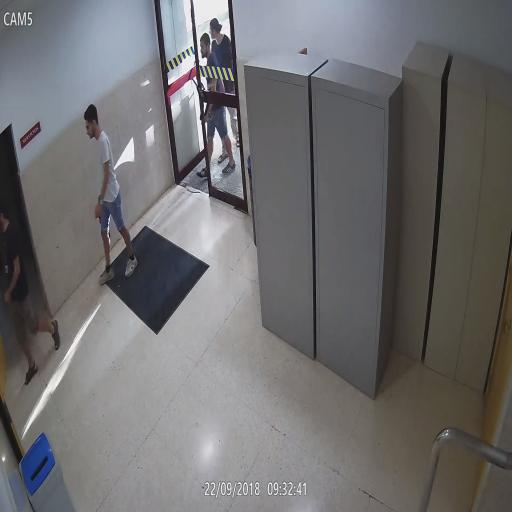Handgun: (201, 107, 212, 128)
